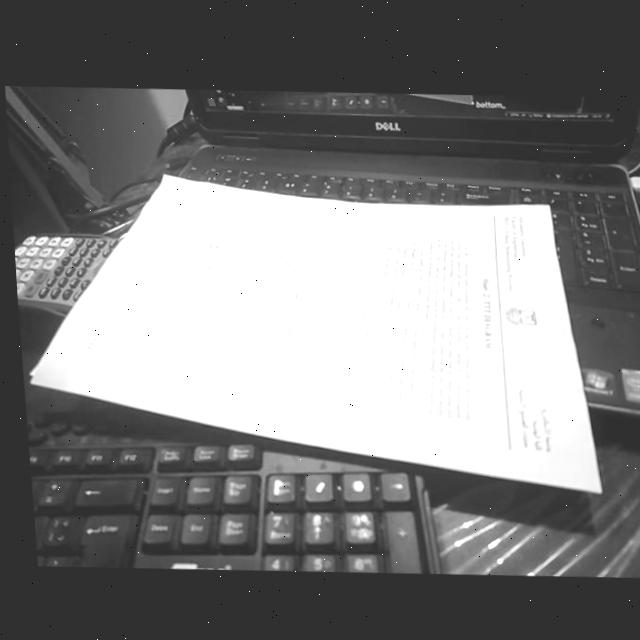document: (31, 175, 599, 491)
